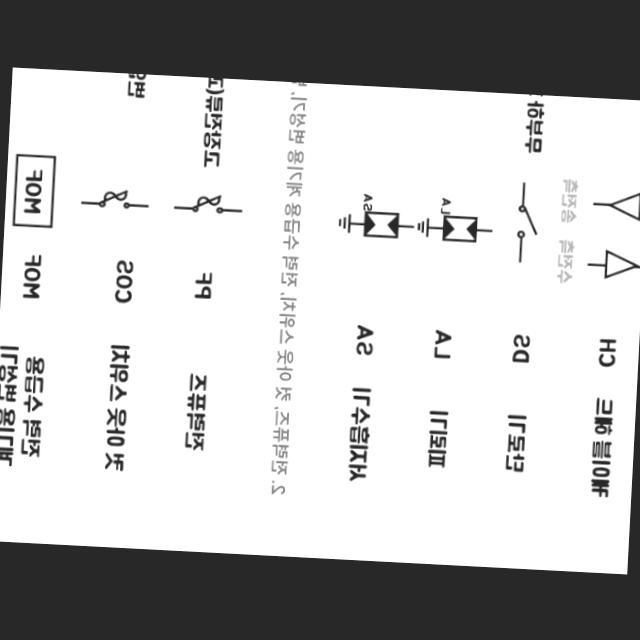CH: (605, 250, 638, 277), (611, 190, 640, 220)
GND: (338, 210, 352, 233), (416, 216, 430, 237)
LA: (442, 214, 478, 242), (364, 211, 400, 237)
MOF: (14, 154, 57, 226)
PF: (193, 192, 224, 214), (99, 188, 131, 208)
ds: (516, 204, 538, 235)
